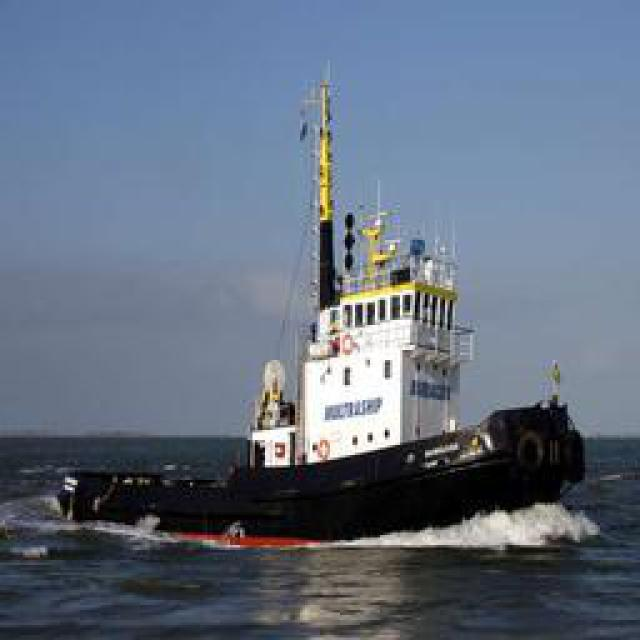Ship: (46, 68, 593, 556)
